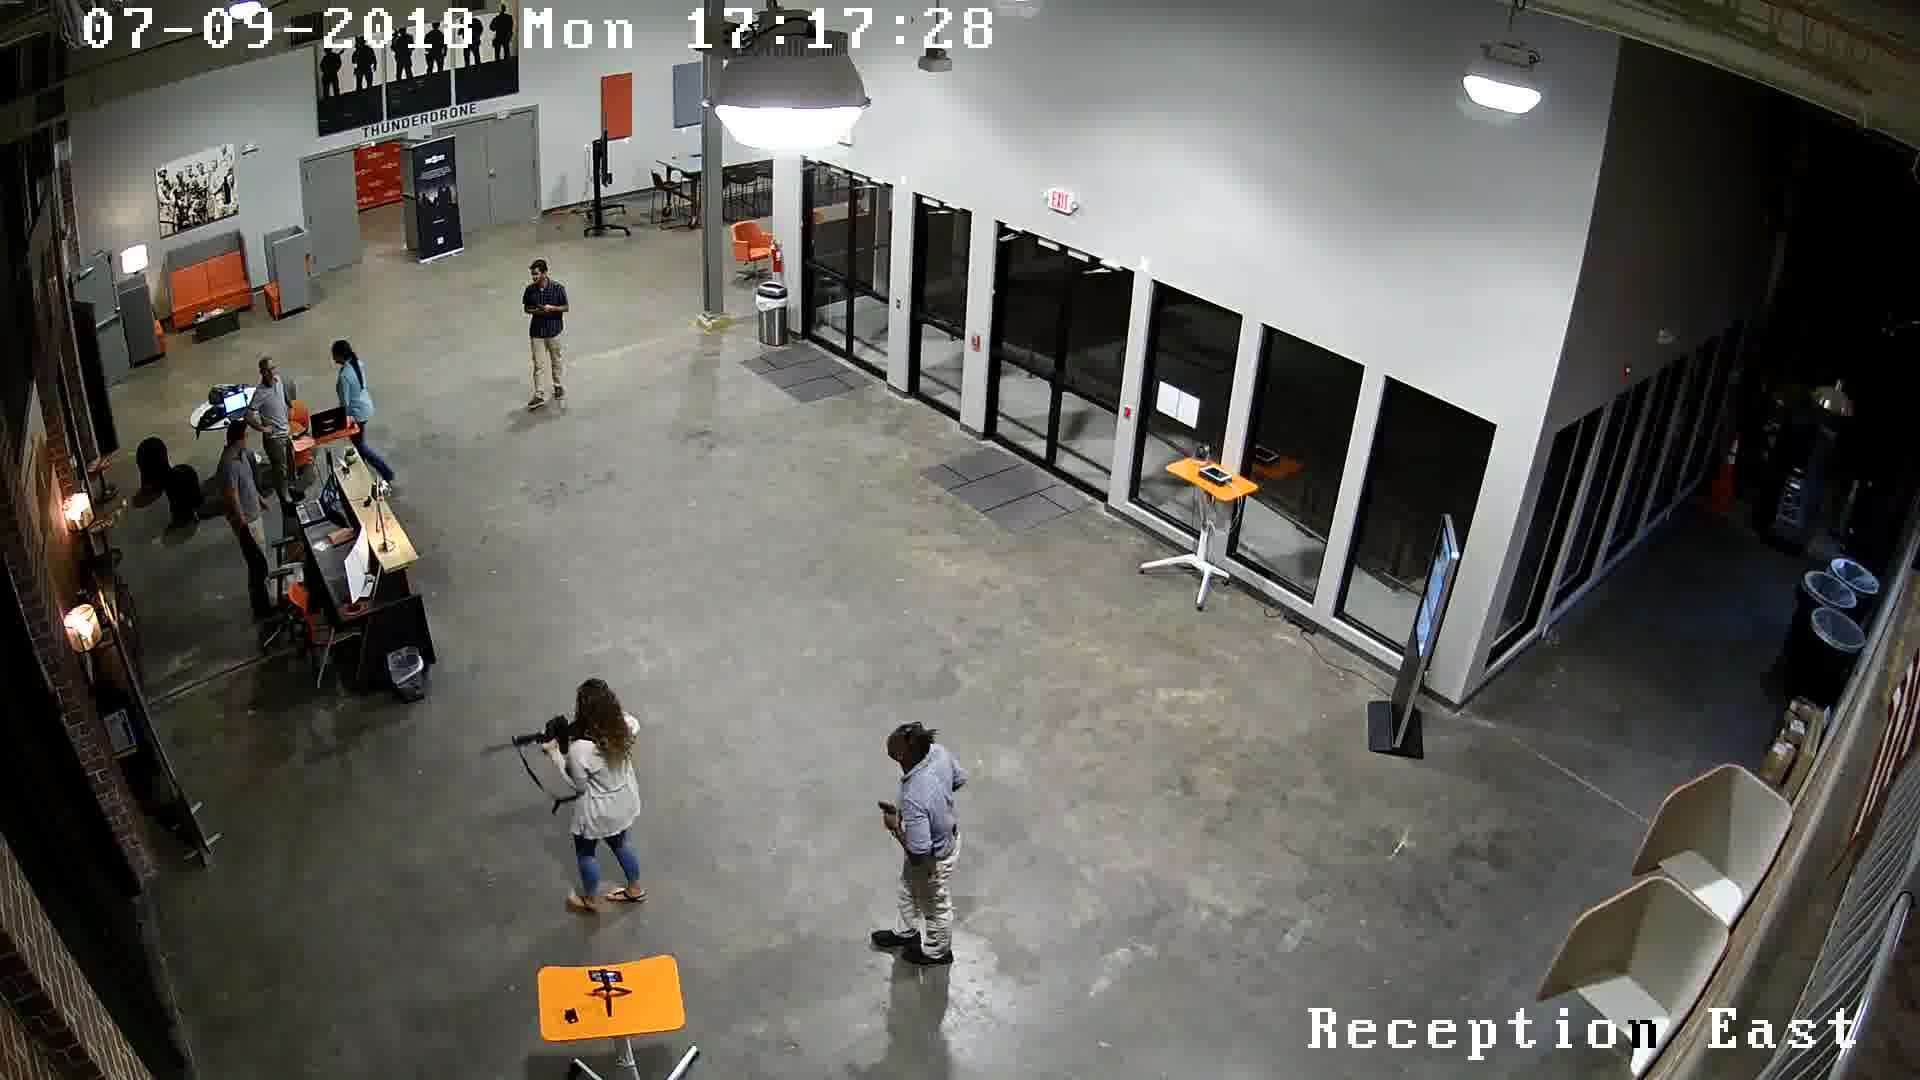pistol: (868, 790, 897, 833)
